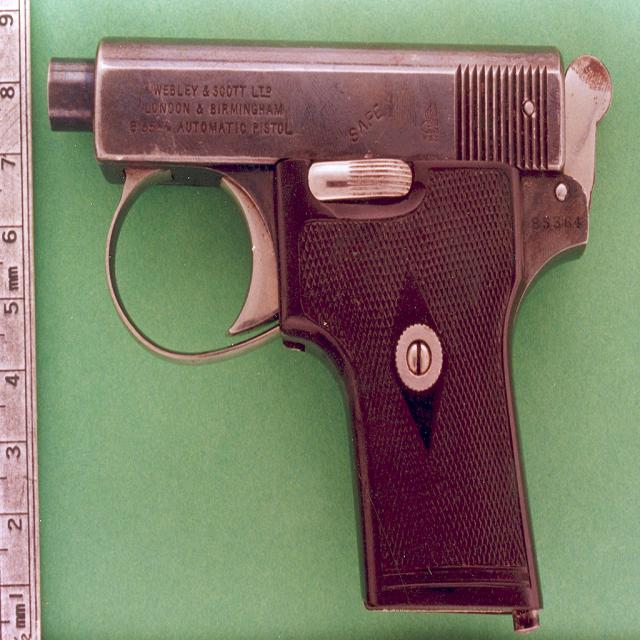Gun: (48, 40, 611, 630)
